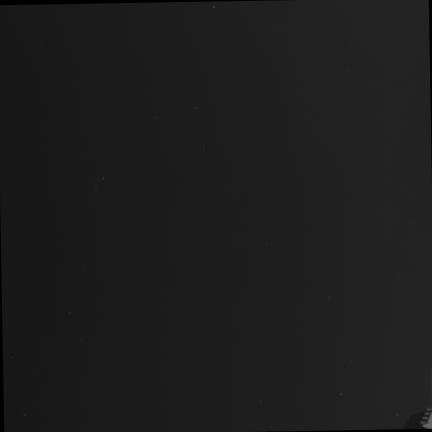Shahed: (204, 142, 206, 152)
